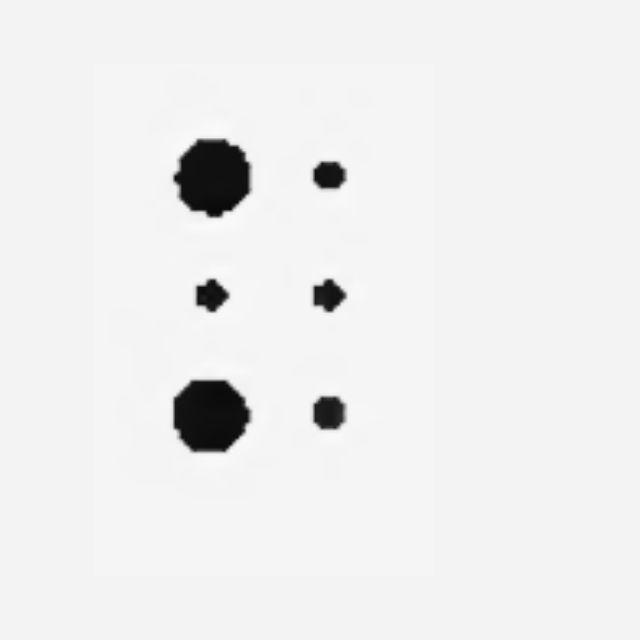kaya: (173, 137, 369, 456)
